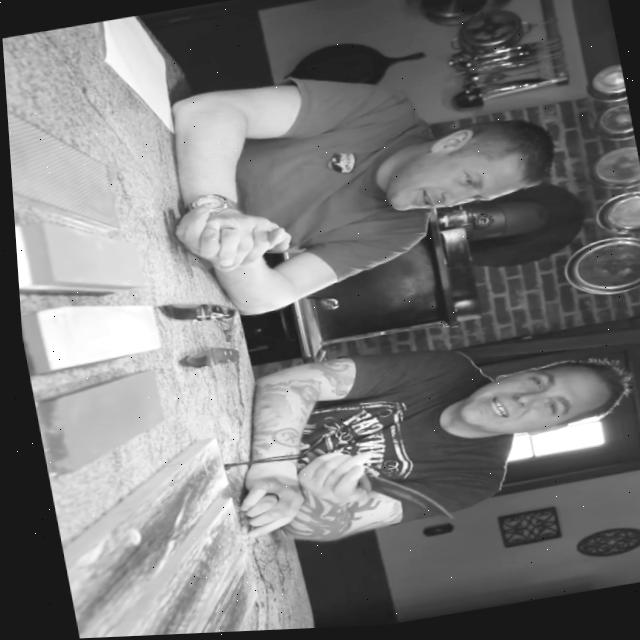knife: (351, 465, 446, 536), (148, 290, 250, 332), (168, 341, 251, 373)
